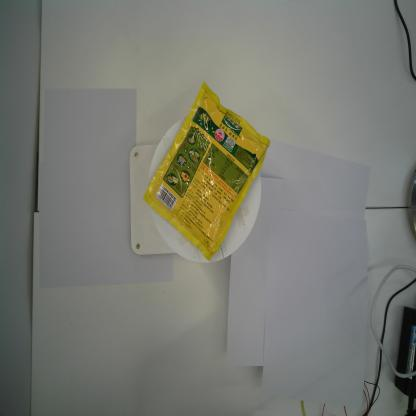Seasoner: (142, 81, 272, 264)
